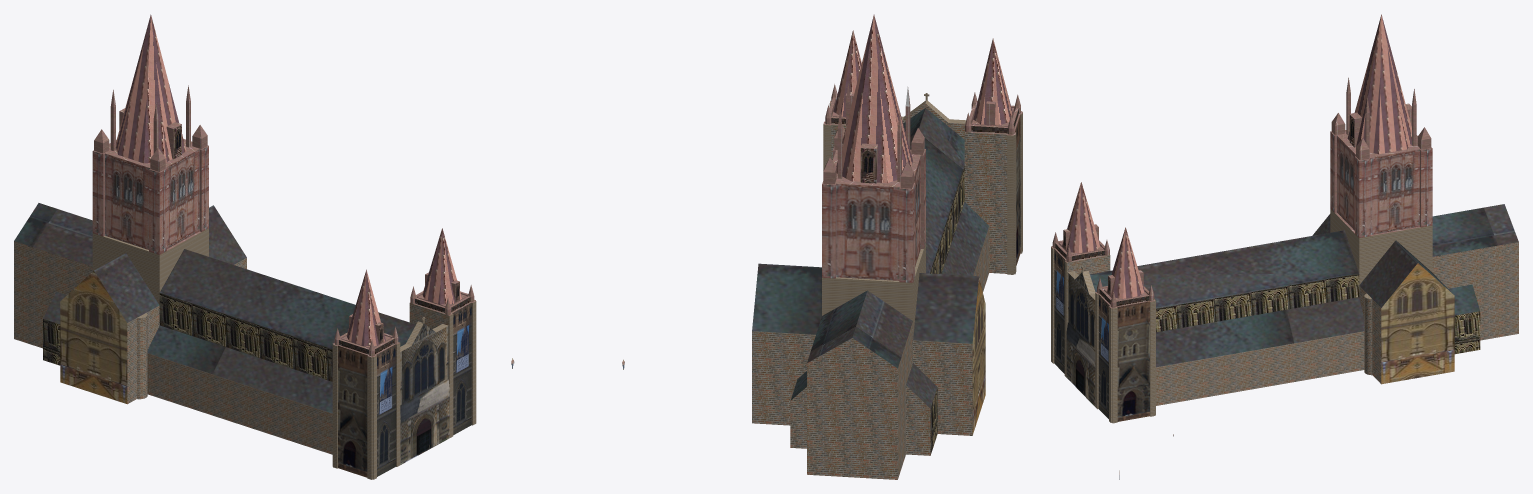
File: church.gltf
3 views of the same model, side by side, from view 1: azimuth 30°, elevation 25°; view 2: azimuth 150°, elevation 25°; view 3: azimuth 270°, elevation 25° (orthographic). The views are drawn at different scales.
Visible parts, largest first — view 1: ID338, ID709, ID746, ID730, ID722, ID701, ID858, ID1070, ID311, ID775, ID1132, ID738 (+16 smaller); view 2: ID1070, ID858, ID836, ID338, ID1062, ID1132, ID709, ID759, ID738, ID730, ID459, ID746 (+13 smaller); view 3: ID709, ID1032, ID1078, ID1054, ID1070, ID493, ID858, ID828, ID580, ID1132, ID701, ID738 (+14 smaller).
Part boxes in pixels (box(x1,y1,x2,y2)): ID338: box(127, 303, 448, 454); ID709: box(160, 249, 415, 348); ID746: box(60, 271, 127, 403); ID730: box(147, 325, 332, 413); ID722: box(159, 293, 332, 381); ID701: box(400, 326, 449, 464); ID858: box(116, 14, 186, 163); ID1070: box(14, 241, 92, 348); ID311: box(338, 345, 367, 477); ID775: box(105, 153, 149, 249); ID1132: box(14, 203, 92, 266); ID738: box(92, 228, 208, 304); ID1070: box(752, 322, 972, 479); ID858: box(836, 14, 912, 183); ID836: box(836, 183, 899, 280); ID338: box(831, 120, 1007, 291); ID1062: box(752, 263, 821, 334); ID1132: box(807, 290, 912, 368); ID709: box(903, 108, 964, 273); ID759: box(913, 273, 978, 343); ID738: box(822, 243, 925, 338); ID730: box(941, 202, 988, 275); ID459: box(973, 38, 1012, 125); ID746: box(972, 277, 985, 434); ID709: box(1090, 230, 1358, 308); ID1032: box(1156, 286, 1381, 405); ID1078: box(1156, 297, 1364, 367); ID1054: box(1381, 263, 1454, 384); ID1070: box(1432, 242, 1518, 340); ID493: box(1156, 273, 1359, 332); ID858: box(1347, 14, 1411, 154); ID828: box(1370, 149, 1419, 234); ID580: box(1117, 301, 1149, 421); ID1132: box(1432, 204, 1518, 256); ID701: box(1066, 272, 1095, 406); ID738: box(1330, 209, 1432, 284).
Size of the model in its own units: 76.23 by 59.99 by 77.94.
Materials: 217 (75 with a texture image).
